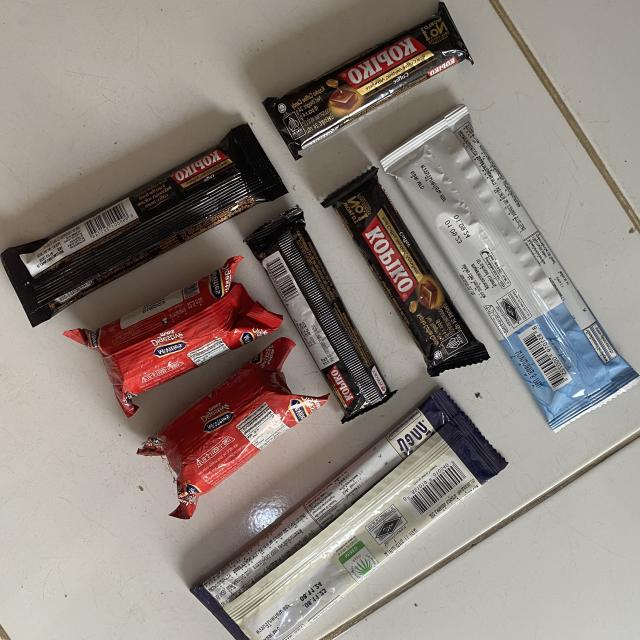plastik: (381, 107, 640, 431), (192, 389, 506, 640), (1, 125, 288, 326), (64, 256, 283, 417), (321, 167, 489, 376), (139, 339, 328, 518), (263, 2, 473, 159), (244, 206, 395, 422)
